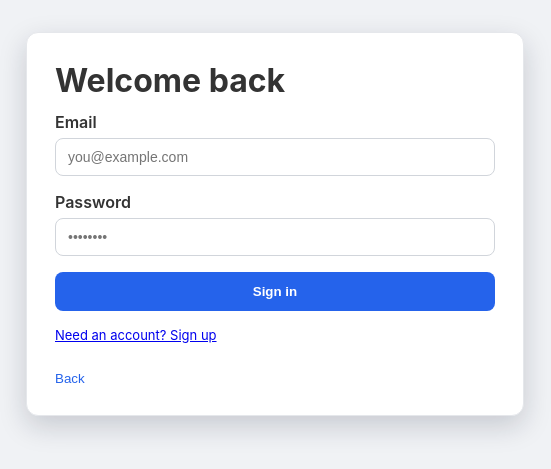
Test: AuthPage › shows error message on failed login
Type "ada@example.com" into the field labelled "Email". click: [275, 157]
box: top-left (55, 138), bottom-right (495, 176)
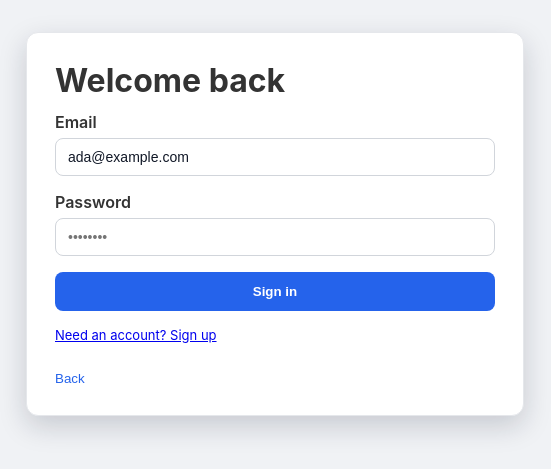
Type "password123" into the password field labelled "Password". click: [275, 237]
box: top-left (55, 218), bottom-right (495, 256)
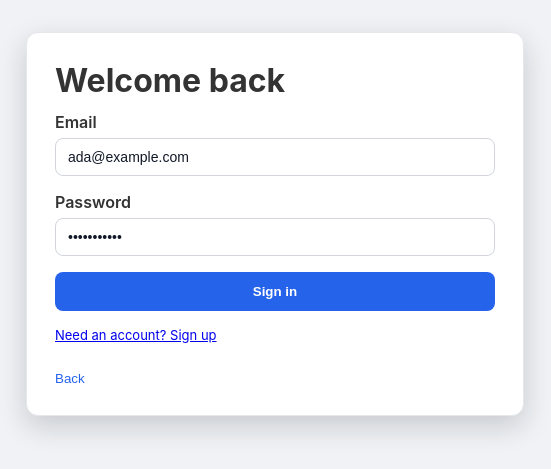
Click the button "Sign in". click: [275, 292]
box: top-left (55, 272), bottom-right (495, 311)
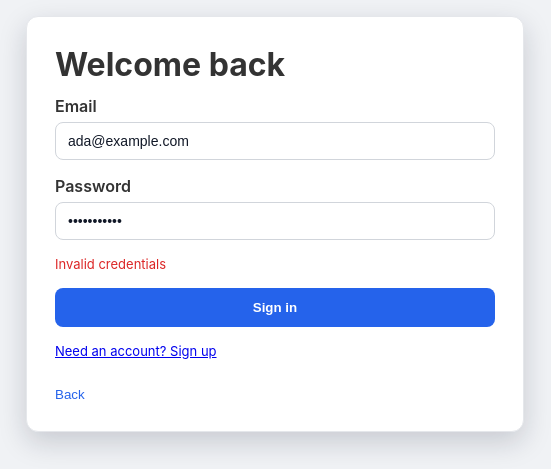
expect the text "Invalid credentials" is shown: met, box top-left (55, 256), bottom-right (166, 272)
